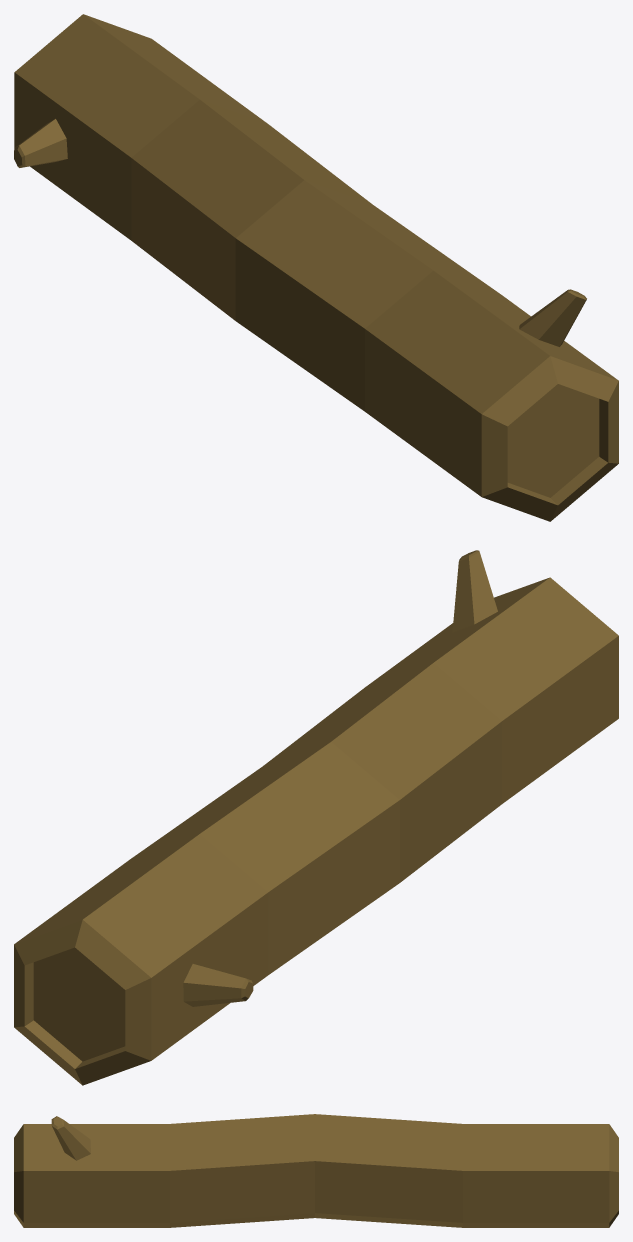
File: firewood.fbx
3 renders of one model, top to bottom at view 1: azimuth 30°, elevation 25°; view 2: azimuth 150°, elevation 25°; view 3: azimuth 270°, elevation 25°, orthographic. The views are drawn at different scales.
Visible parts, largest first — view 1: Куб; view 2: Куб; view 3: Куб.
Boxes of the visible parts, box(x1,y1,x2,y2) form: Куб: box(14, 14, 618, 521); Куб: box(14, 550, 618, 1085); Куб: box(14, 1114, 618, 1227).
Bounding box in the file's own units: 0.4193 × 0.4348 × 1.9.
